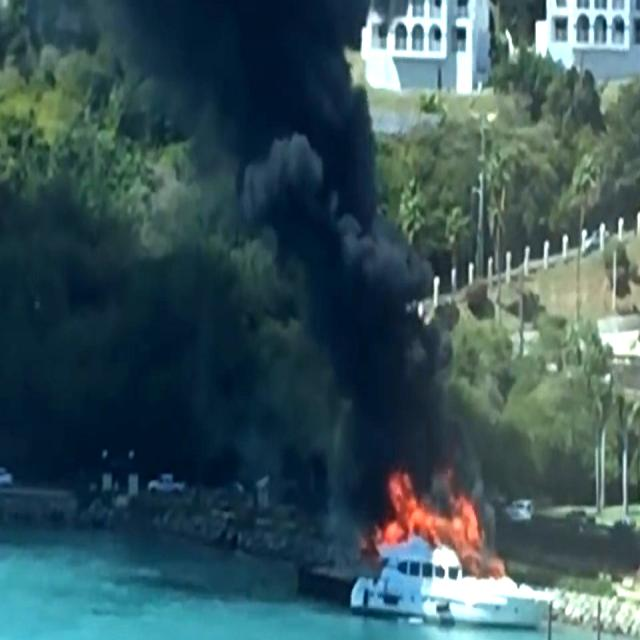fire: (384, 448, 474, 562)
smoke: (260, 66, 409, 354), (148, 0, 347, 173)
